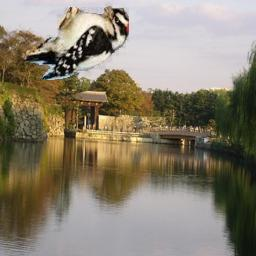Woodpecker: (19, 2, 129, 80)
